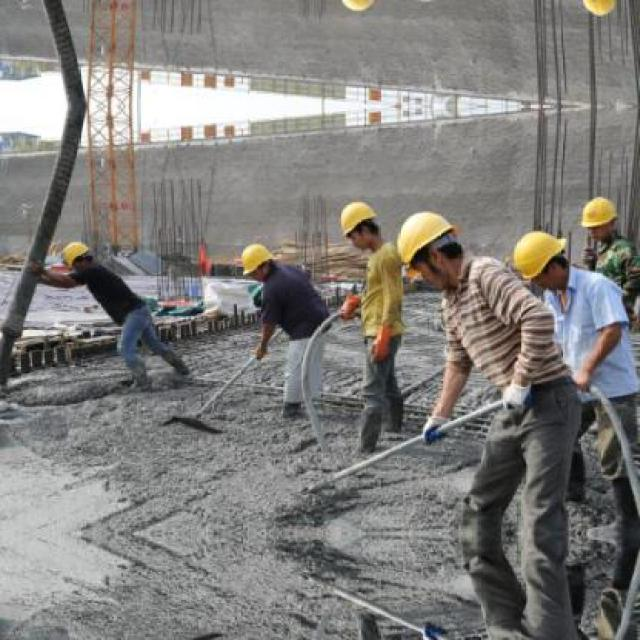helmet: (390, 205, 472, 293), (506, 224, 574, 290), (337, 194, 383, 254), (577, 190, 620, 243), (236, 240, 275, 283), (56, 236, 96, 274), (577, 0, 621, 23), (337, 0, 385, 19)
